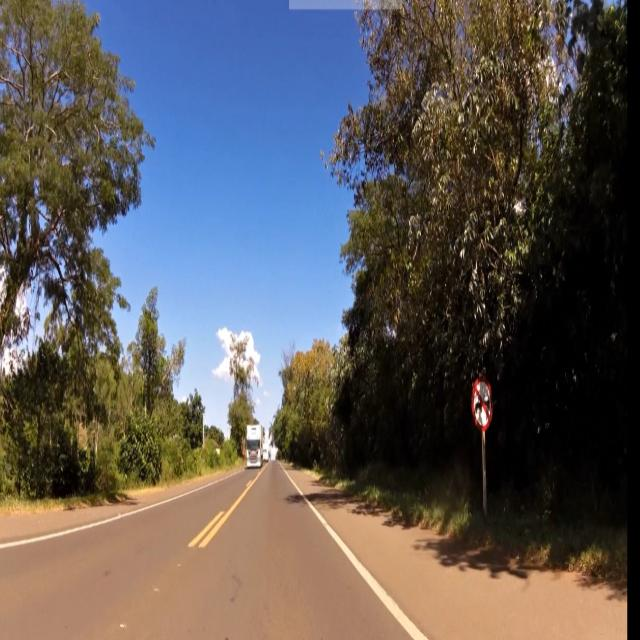R-7: (473, 374, 493, 430)
